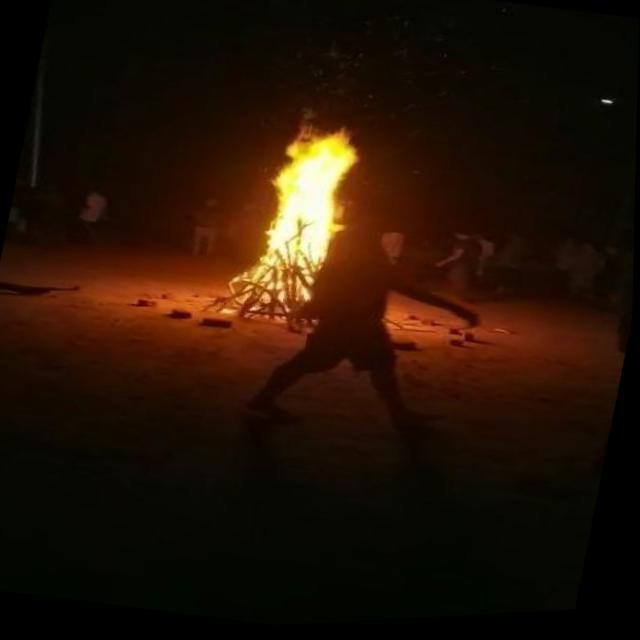fire: (211, 97, 380, 334)
